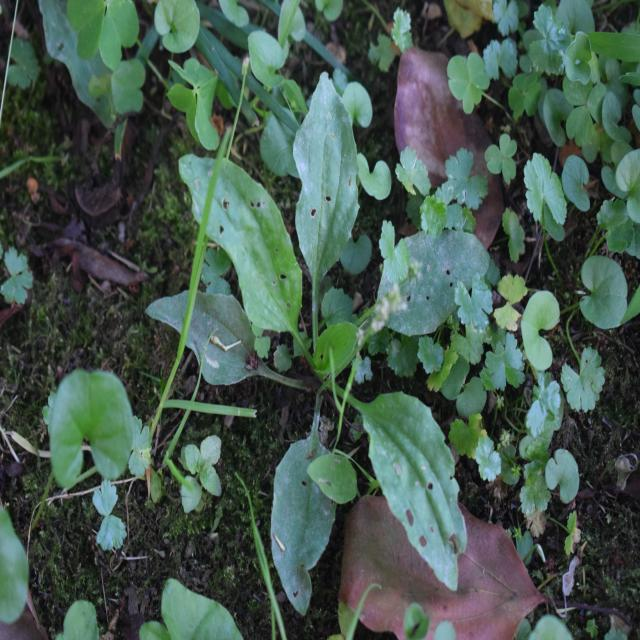plantain: (158, 120, 472, 574)
